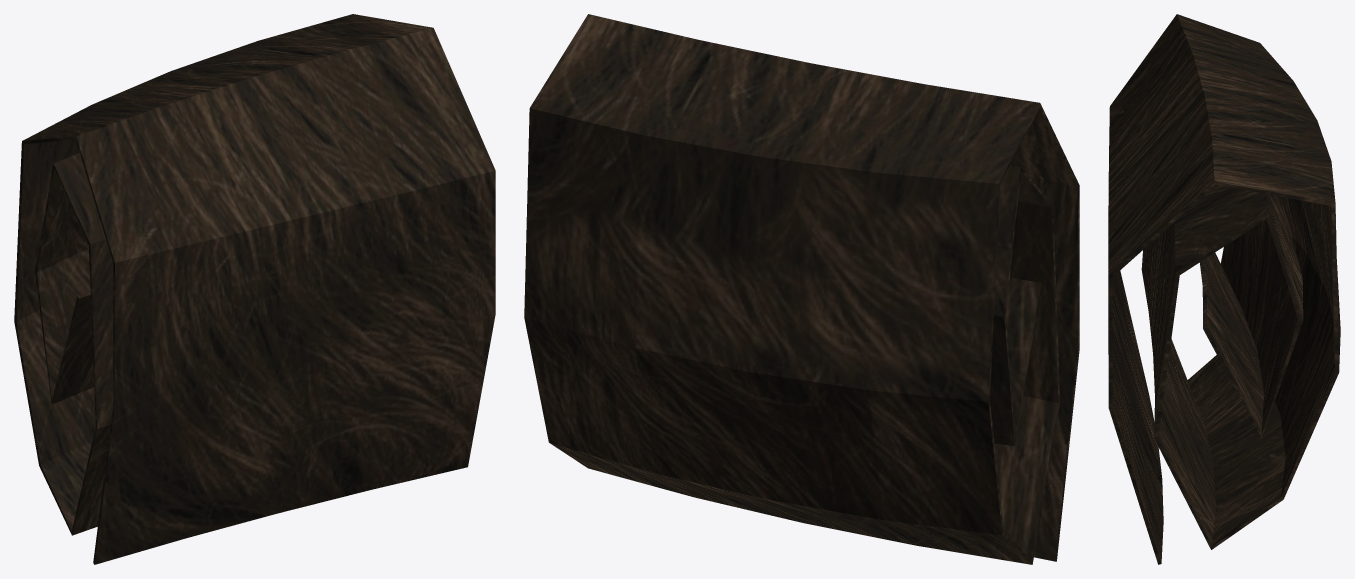
File: bunch of hair.FBX
The picture shows the model from 3 angles, left to right: view 1: azimuth 30°, elevation 25°; view 2: azimuth 150°, elevation 25°; view 3: azimuth 270°, elevation 25°; orthographic projection. The views are drawn at different scales.
Visible parts, largest first — view 1: Hair; view 2: Hair; view 3: Hair.
Boxes of the visible parts, x1,y1,x2,y2 form: Hair: (14, 14, 495, 564); Hair: (524, 14, 1079, 564); Hair: (1108, 14, 1340, 564).
Bounding box in the file's own units: 23.34 × 23.87 × 13.15.
Materials: 1 (1 with a texture image).
